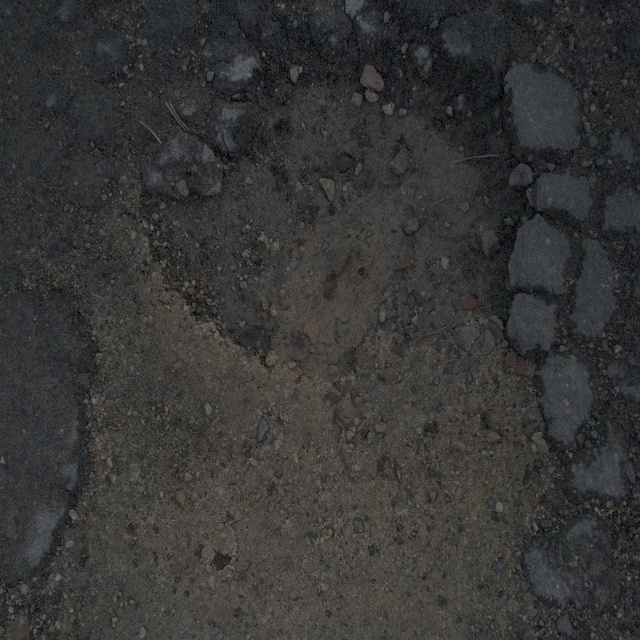pothole: (154, 38, 540, 374)
